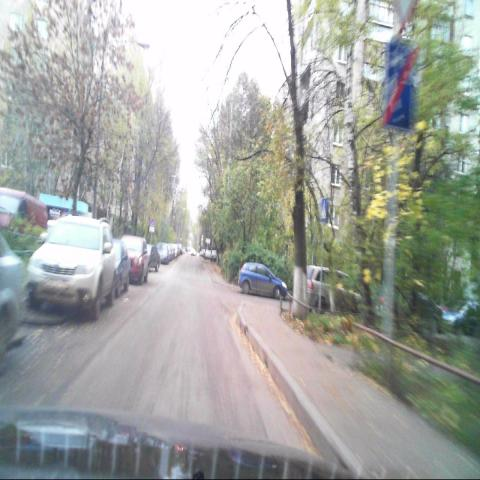5_22: (384, 39, 414, 132)
